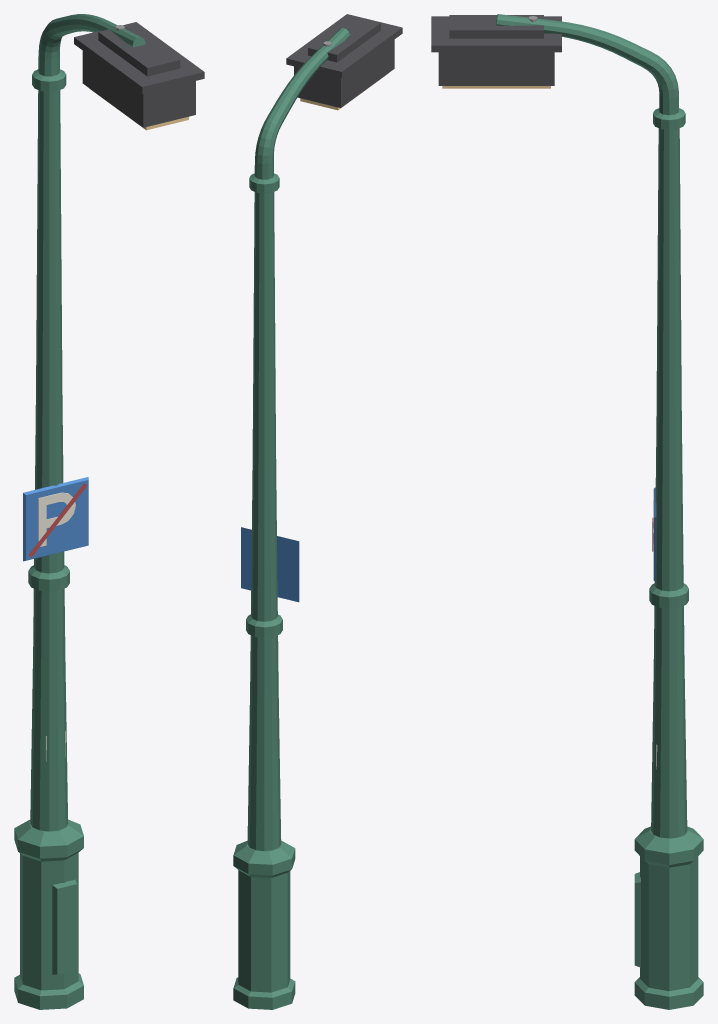
The model's file is exterior_street_lamp.fbx.
3 views of the same model, side by side, from view 1: azimuth 30°, elevation 25°; view 2: azimuth 150°, elevation 25°; view 3: azimuth 270°, elevation 25° (orthographic). The views are drawn at different scales.
Parts seen in each view (by area): view 1: exterior_street_lamp; view 2: exterior_street_lamp; view 3: exterior_street_lamp.
Boxes of the visible parts, x1=… form: exterior_street_lamp: x1=14, y1=14, x2=204, y2=1009; exterior_street_lamp: x1=233, y1=14, x2=402, y2=1009; exterior_street_lamp: x1=431, y1=14, x2=703, y2=1009.
Bounding box in the file's own units: 0.4 × 5.96 × 1.5.
